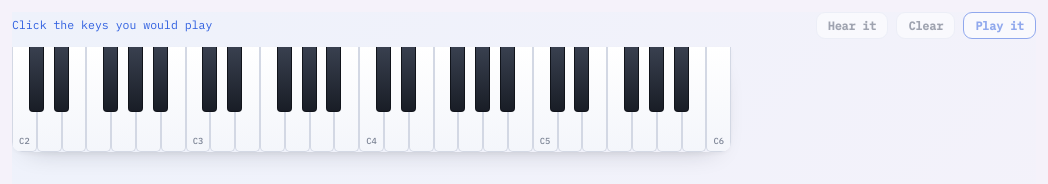
Scenario: VirtualKeyboard › shows what is currently selected
The width and height of the screenshot is (1048, 184).
Click the button named "G3": (297, 99) [285,47,310,152]
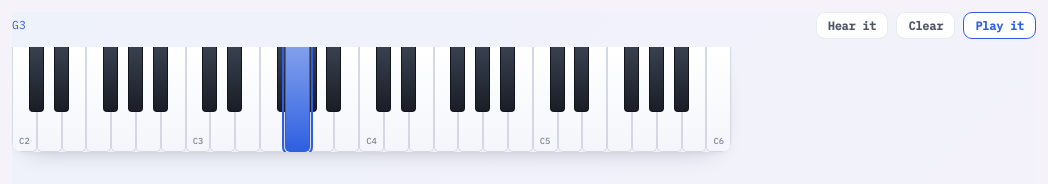
Click the button named "B3": (347, 99) [334,47,359,152]
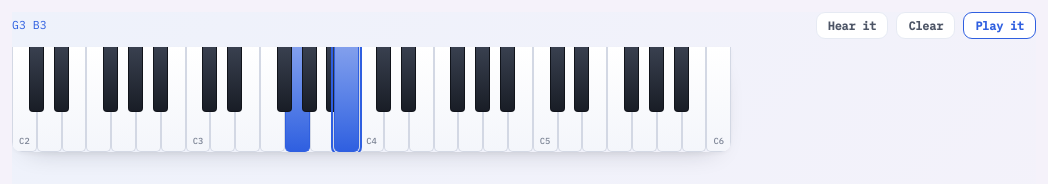
Expected: the text "G3 B3" is shown, [12,17,47,32]
